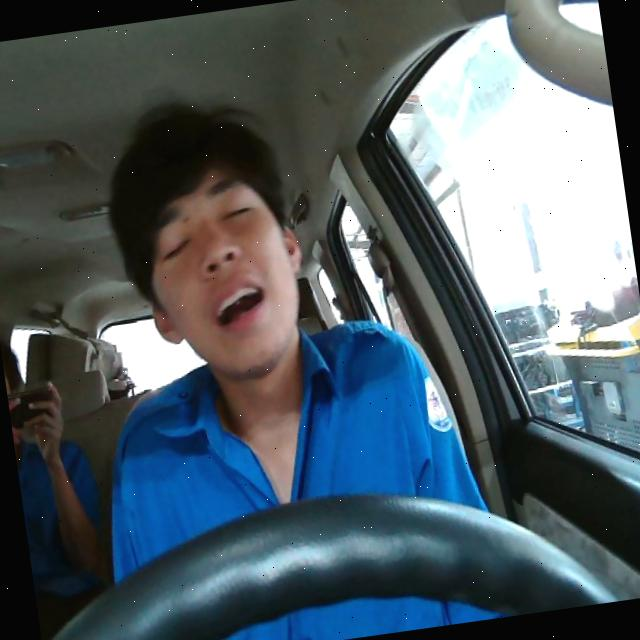yarning: (131, 152, 319, 392)
